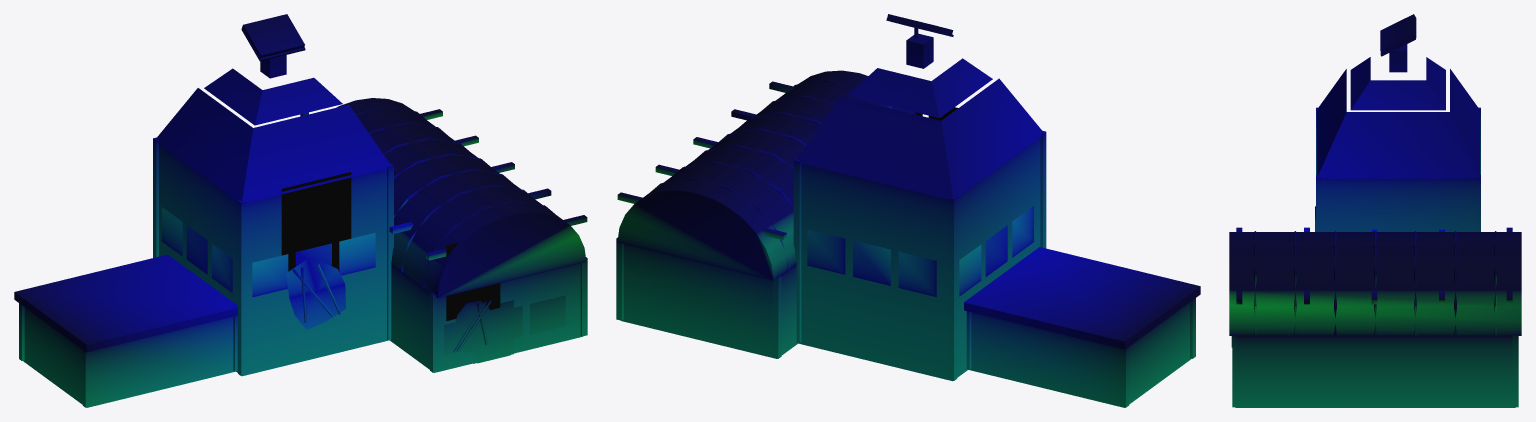
File: d_gatecontrol_damaged.glb
3 renders of one model, left to right at view 1: azimuth 30°, elevation 25°; view 2: azimuth 150°, elevation 25°; view 3: azimuth 270°, elevation 25°, orthographic. The views are drawn at different scales.
Visible parts, largest first — view 1: lod0; view 2: lod0; view 3: lod0.
Part boxes in pixels (left/top/right/bottom): lod0: left=14, top=14, right=587, bottom=407; lod0: left=616, top=14, right=1200, bottom=407; lod0: left=1229, top=14, right=1521, bottom=407.
Size of what is drawn, in the model's own units: 24.7 by 15.67 by 14.7.
